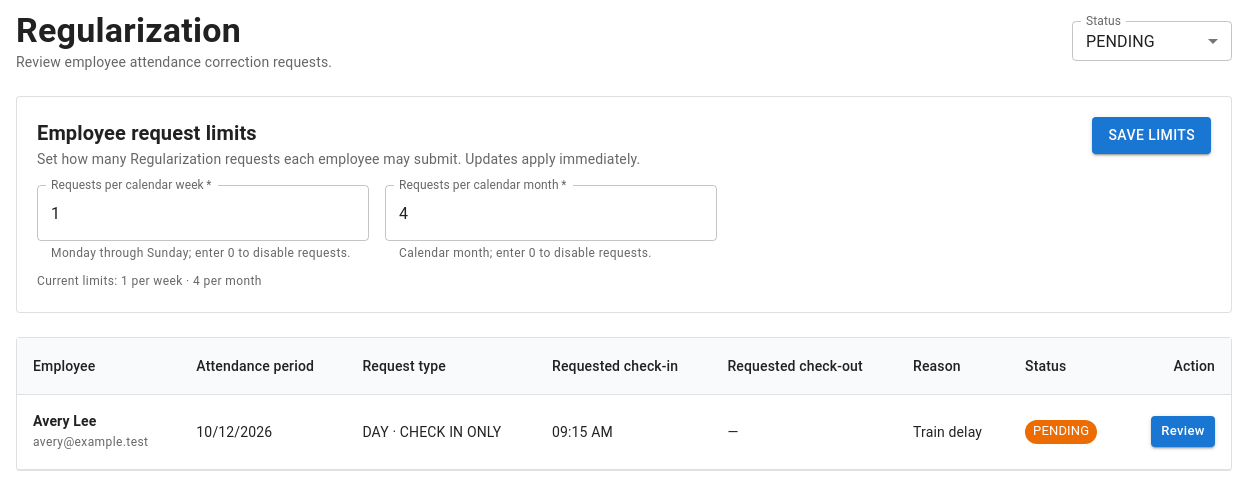
saves quota limits from the superuser policy form
Replace the text in the number field labelled "Requests per calendar week" with "2" at (203, 213), box 37,185 -> 369,241
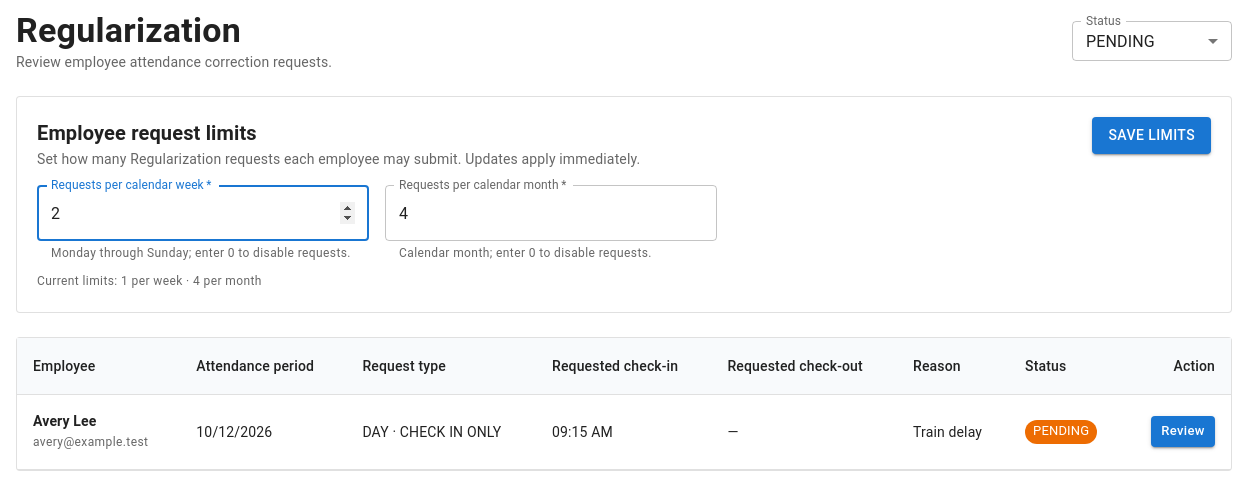
Replace the text in the number field labelled "Requests per calendar month" with "6" at (551, 213), box 385,185 -> 717,241
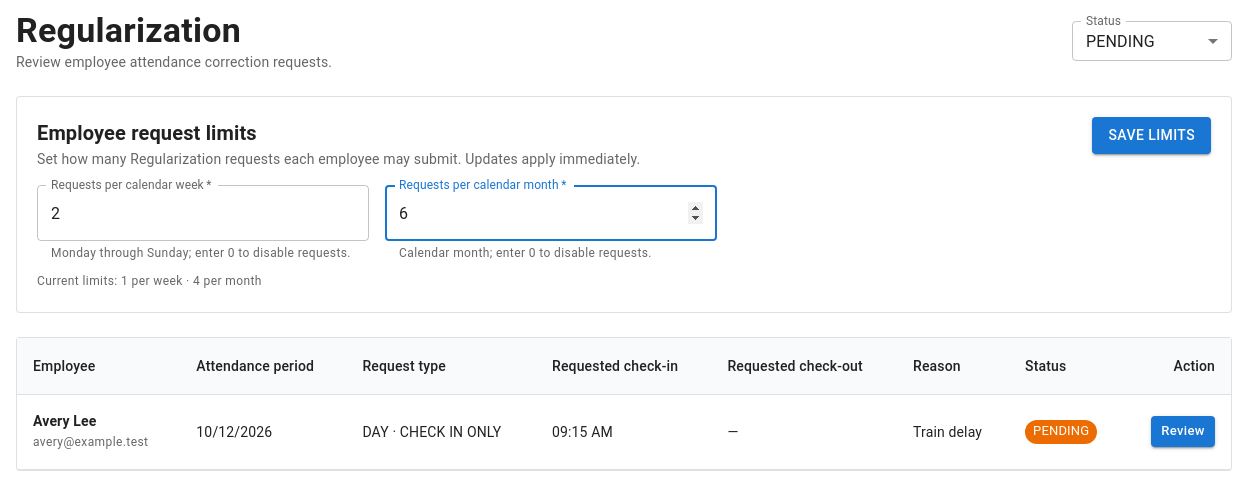
Click the button "Save limits" at (1152, 135), box 1092,117 -> 1211,154
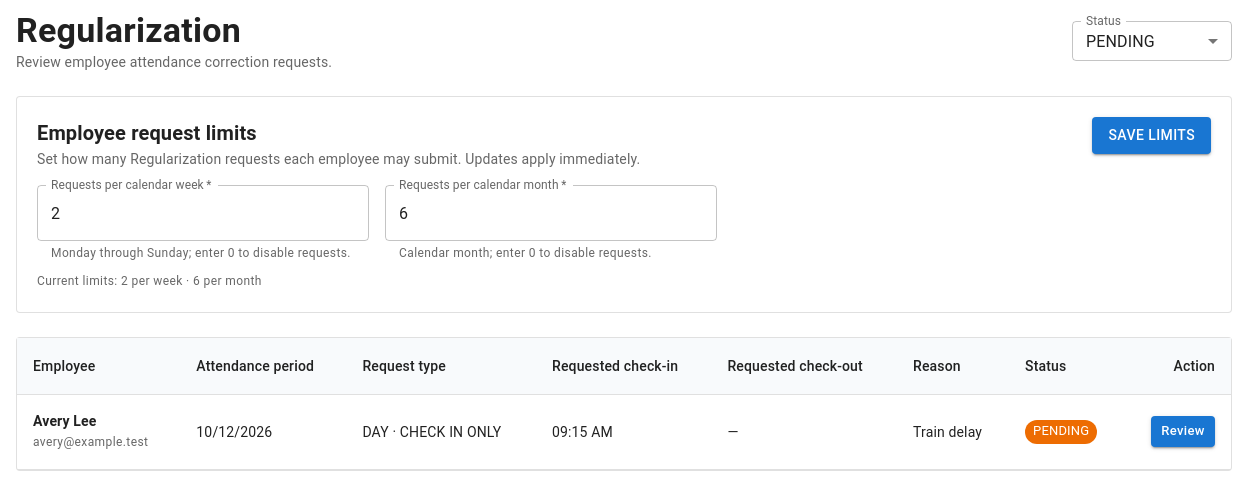
expect the text "Current limits: 2 per week · 6 per month" is shown: met, box 37,274 -> 262,288
